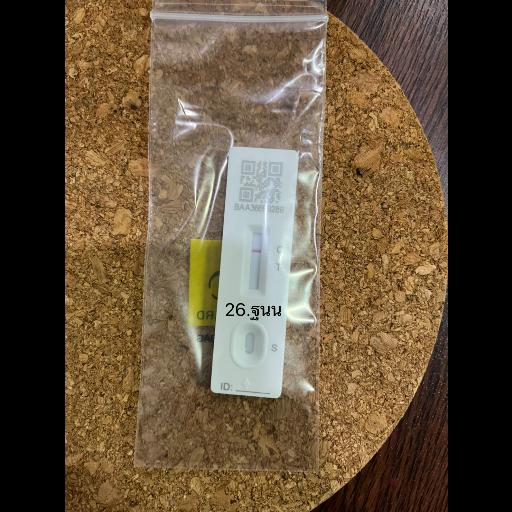Neg: (209, 146, 300, 401)
